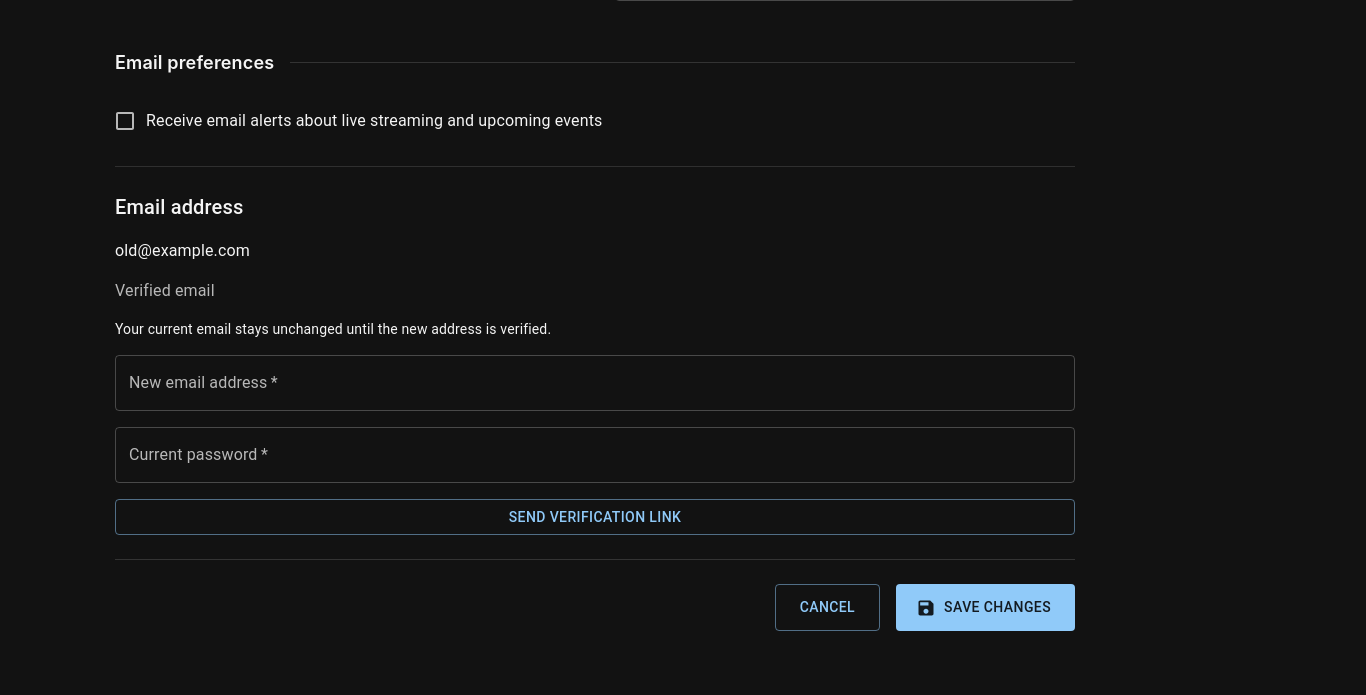
Test: preserves current email while requesting a separately authenticated change
(page scrolled)
Expected: the text "old@example.com" is shown, [115,241,250,260]
Type "new@example.com" into the field labelled "New email address *" at (595, 383), box [115,355,1075,411]
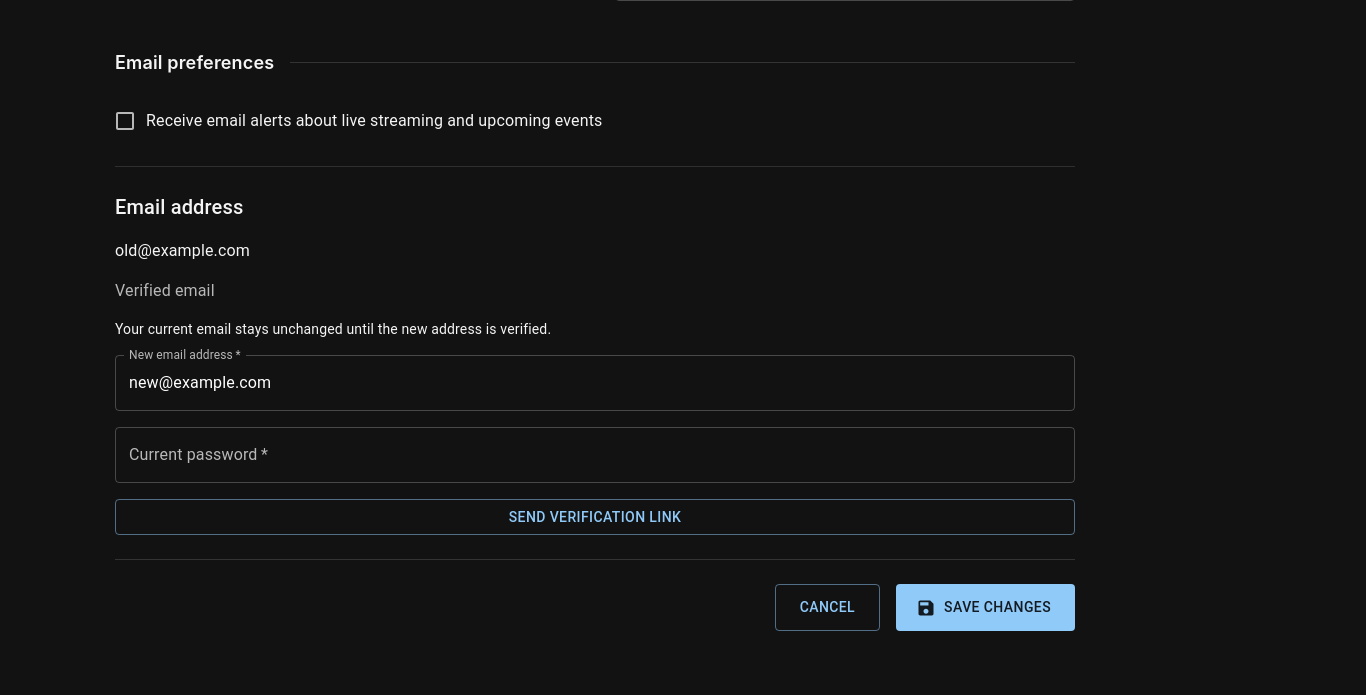
Type "current password" into the password field labelled "Current password *" at (595, 455), box [115,427,1075,483]
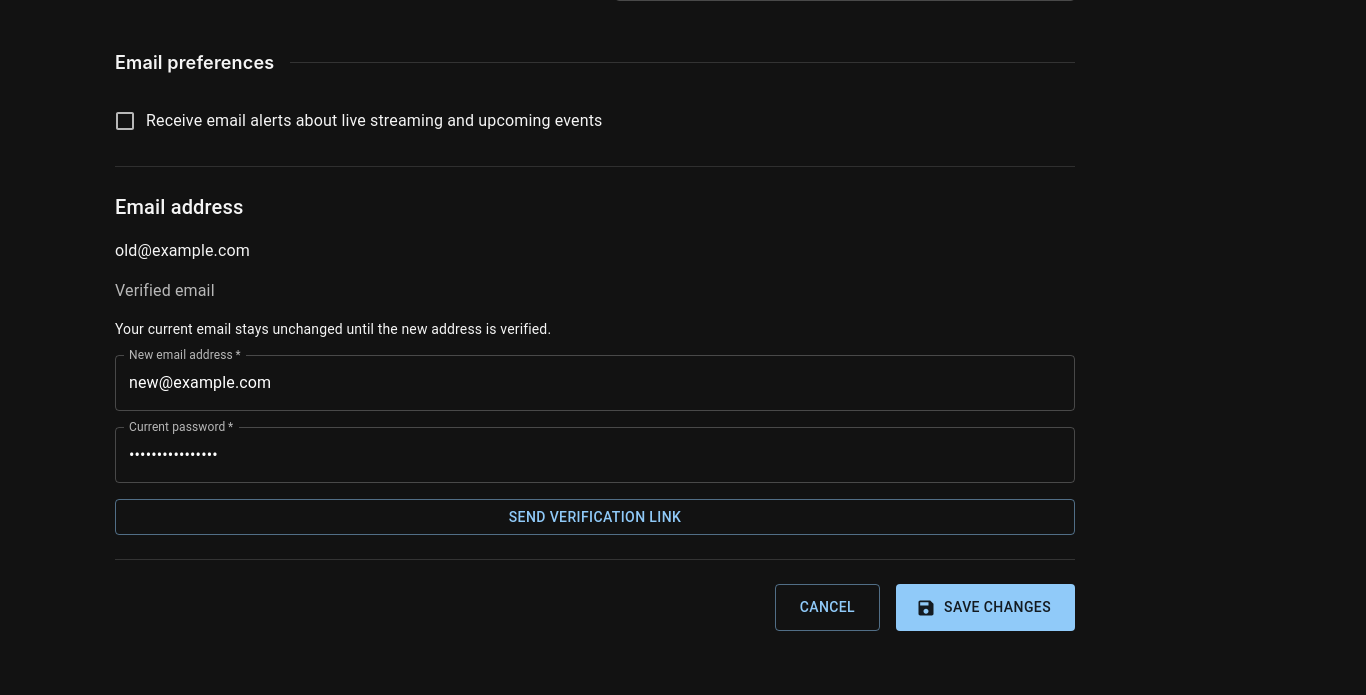
Click the button "Send verification link" at (595, 517), box [115,499,1075,535]
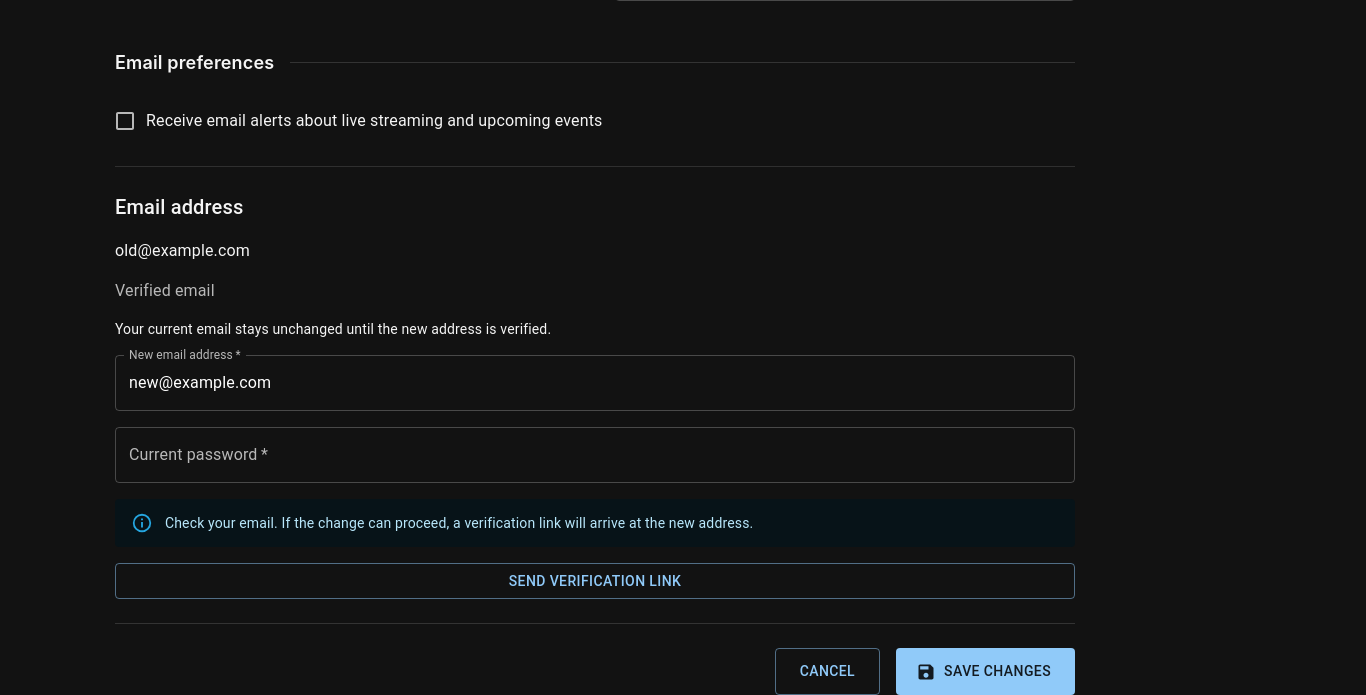
Expected: the text "old@example.com" is shown, [115,241,250,260]
Result: the text "Check your email" is shown at [165,515,753,531]
